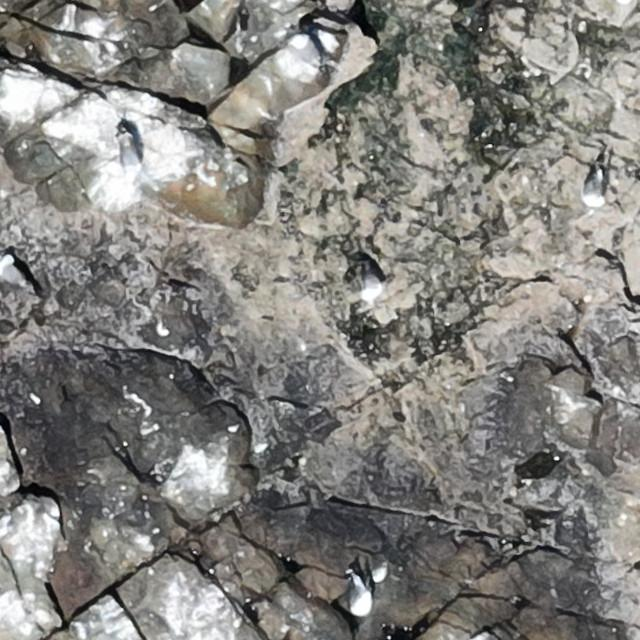umineko: (117, 130, 144, 180), (290, 36, 326, 72), (361, 255, 388, 298), (581, 169, 610, 209), (1, 259, 22, 285), (352, 583, 369, 614)
